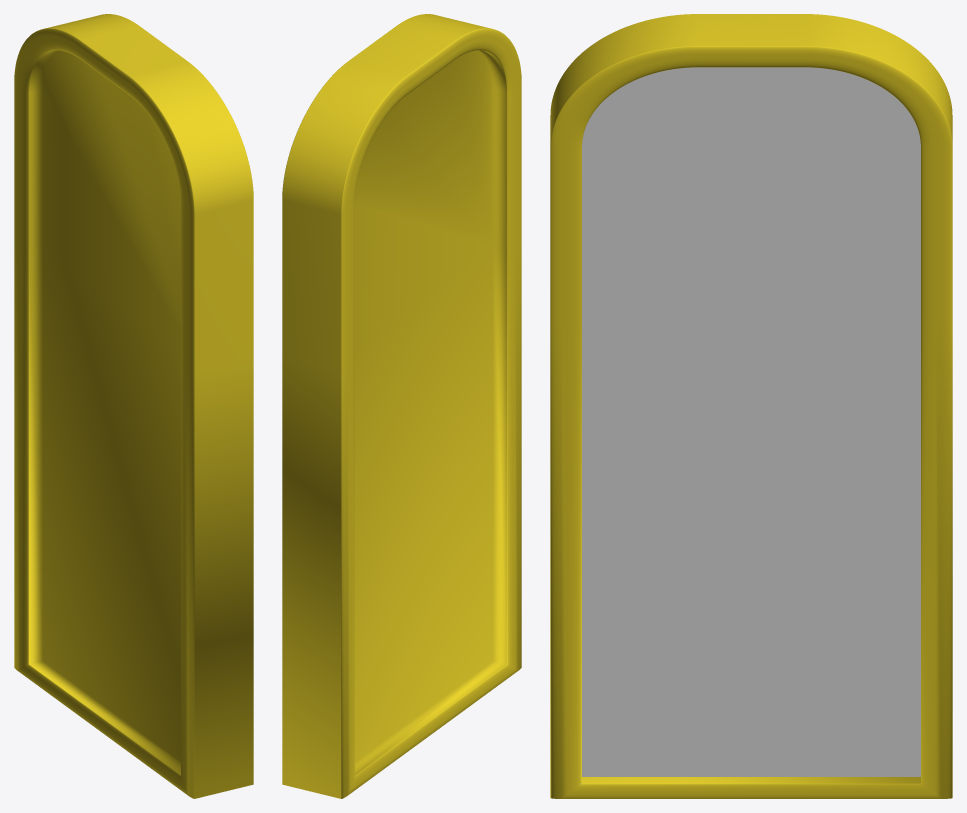
The model's file is mirror.fbx.
3 views of the same model, side by side, from view 1: azimuth 30°, elevation 25°; view 2: azimuth 150°, elevation 25°; view 3: azimuth 270°, elevation 25° (orthographic). The views are drawn at different scales.
Parts seen in each view (by area): view 1: Cube; view 2: Cube; view 3: Cube.001, Cube.
Part boxes in pixels (bbox=[...]): Cube: bbox=[14, 14, 253, 798]; Cube: bbox=[282, 14, 521, 798]; Cube.001: bbox=[582, 67, 920, 776]; Cube: bbox=[550, 14, 952, 798].
Size of the model in its own units: 52.42 by 545 by 264.
